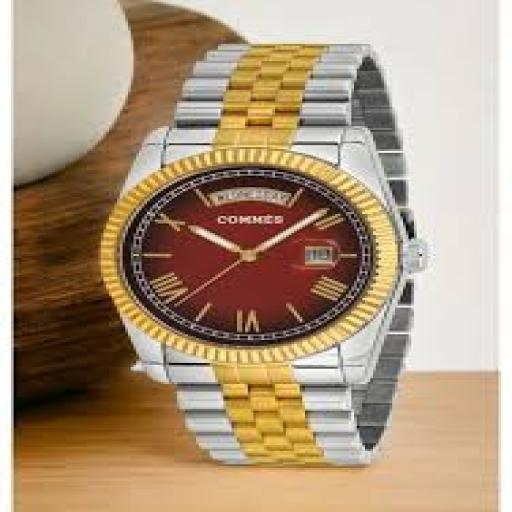KolSaati: (67, 17, 440, 472)
